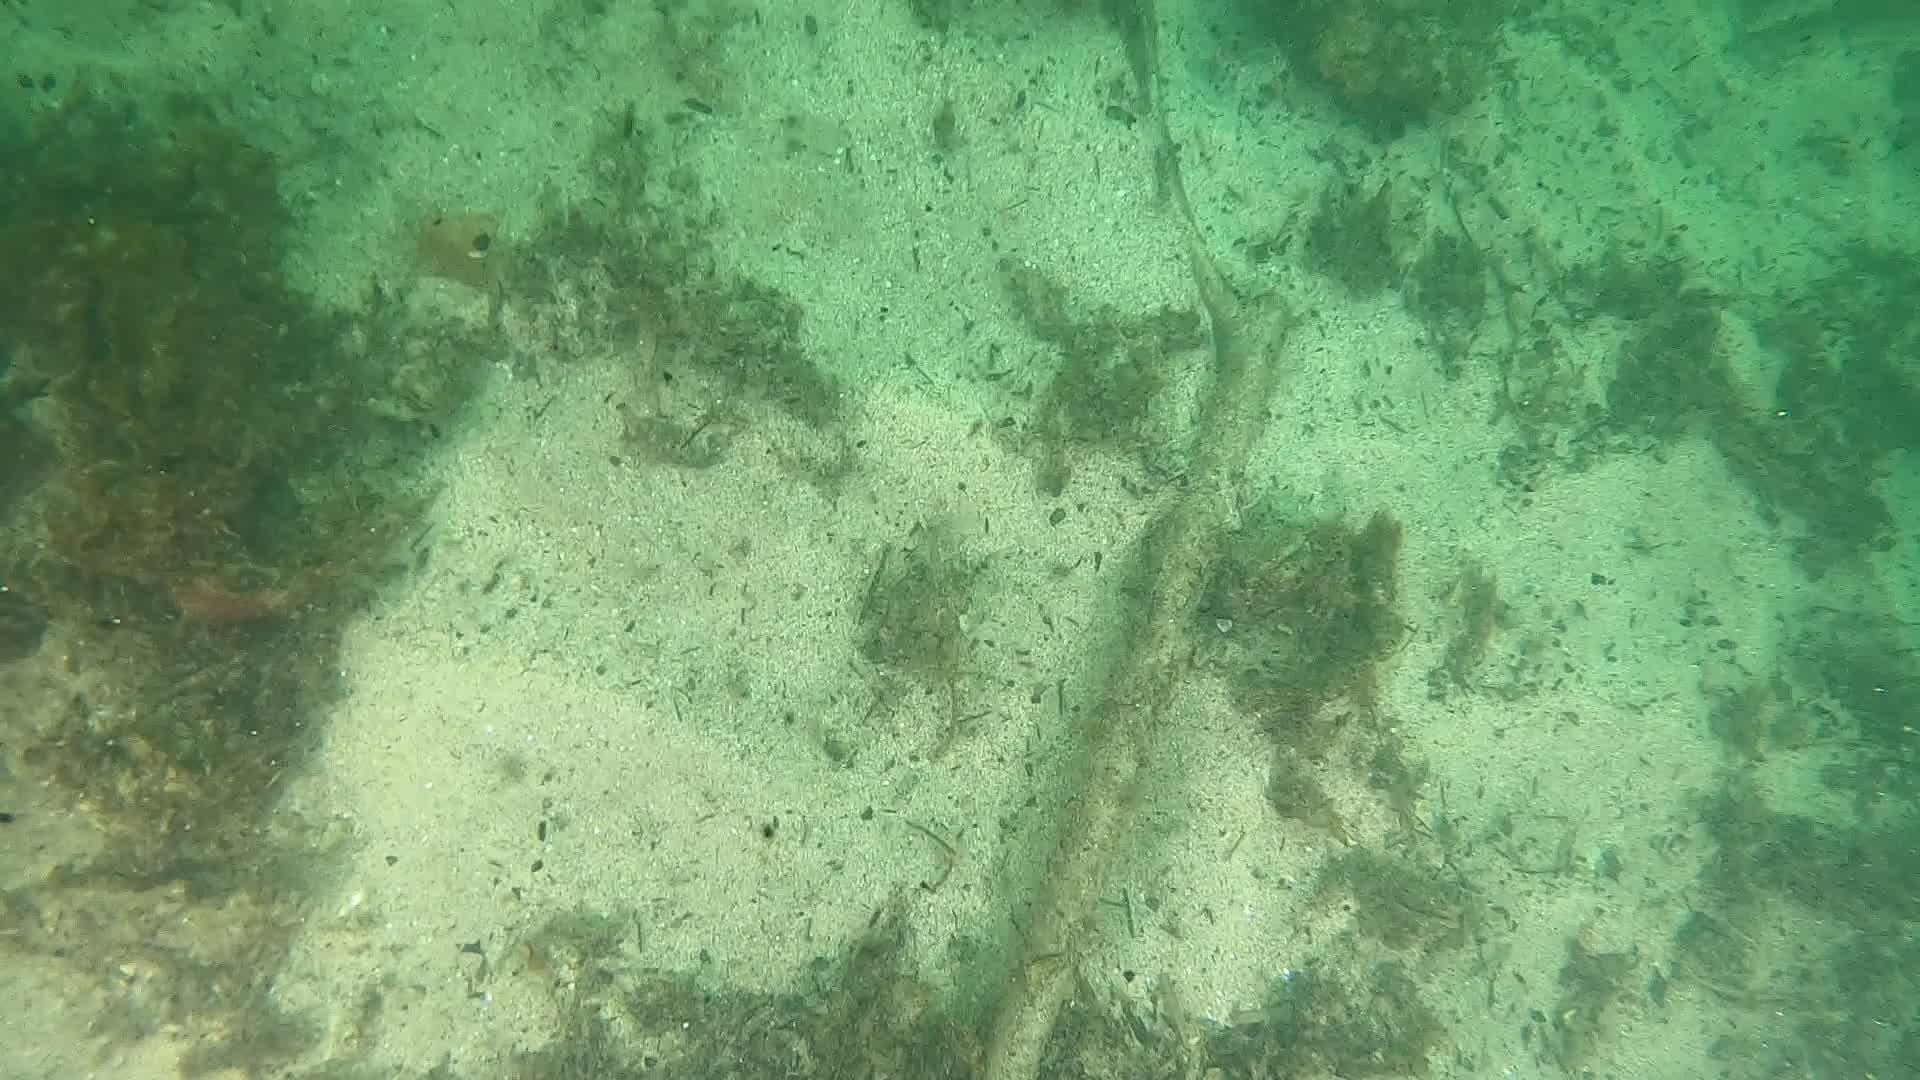wood: (975, 0, 1286, 1071)
